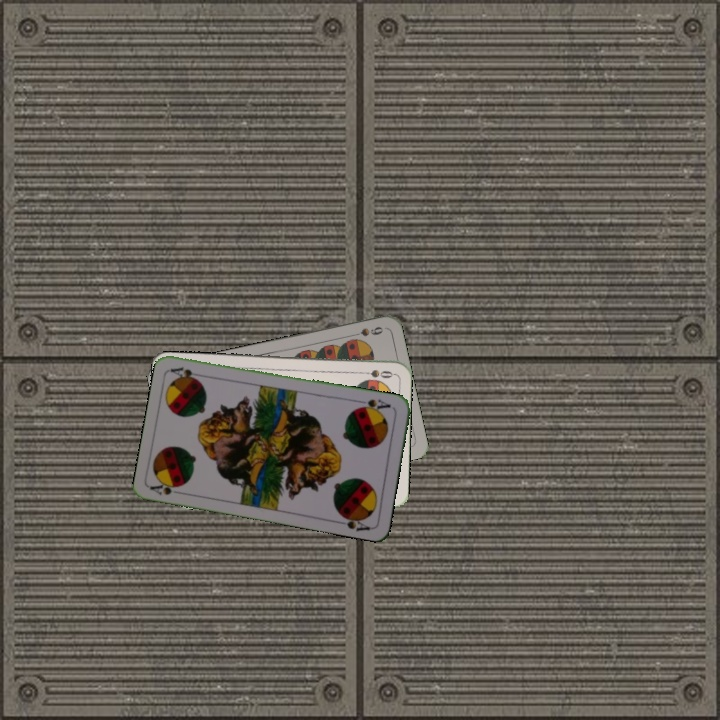S9: (346, 322, 386, 339)
SA: (147, 477, 188, 498), (354, 395, 393, 415)
SO: (355, 365, 396, 381)
